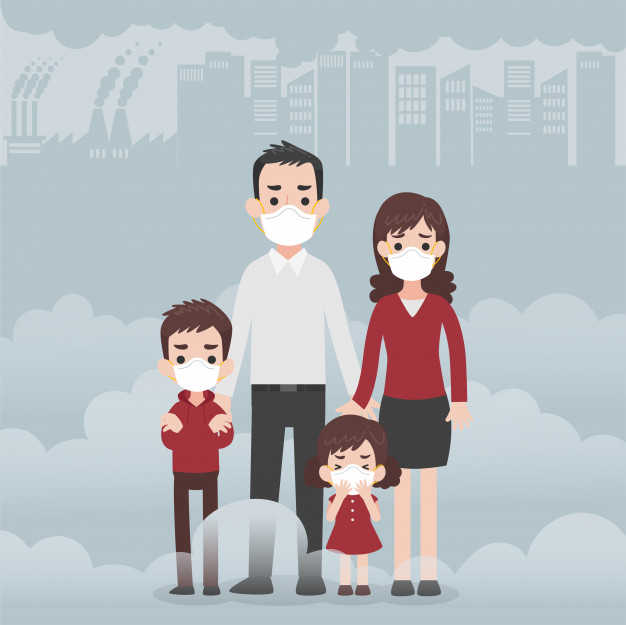mask: (252, 203, 326, 251), (374, 241, 445, 284), (171, 354, 223, 400), (321, 465, 376, 502)
